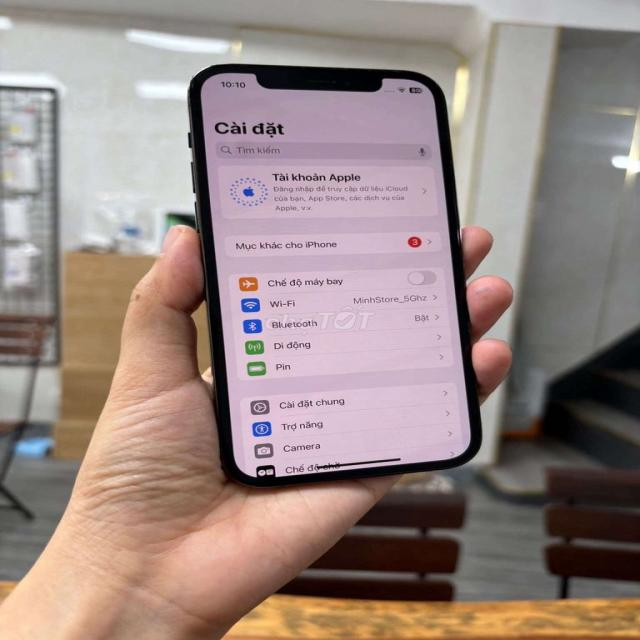gen_12_13: (180, 56, 488, 487)
